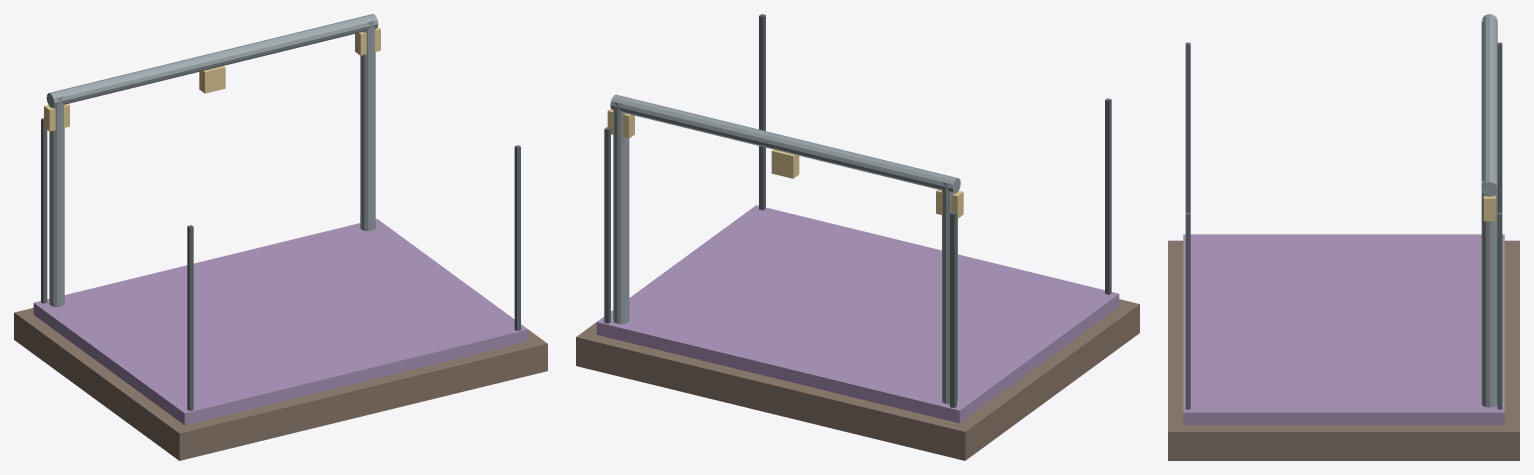
Rendered from performance_stage.glb.
3 renders of one model, left to right at view 1: azimuth 30°, elevation 25°; view 2: azimuth 150°, elevation 25°; view 3: azimuth 270°, elevation 25°, orthographic. The views are drawn at different scales.
Visible parts, largest first — view 1: part_01, part_00, truss, part_02, part_03, part_08, part_10, part_07, part_05; view 2: part_01, part_00, truss, part_03, part_02, part_07, part_08, part_09, part_10, part_05; view 3: part_01, part_00, part_03, truss, part_09, part_10, part_08, part_07.
Boxes of the visible parts, x1,y1,x2,y2 form: part_01: (33,219,528,425); part_00: (14,308,547,460); truss: (46,14,378,107); part_02: (49,96,64,306); part_03: (360,20,375,231); part_08: (187,225,193,410); part_10: (514,145,520,330); part_07: (41,118,47,303); part_05: (199,66,225,93); part_01: (596,205,1119,423); part_00: (576,299,1139,460); truss: (610,94,960,193); part_03: (613,101,629,324); part_02: (942,181,957,404); part_07: (950,211,956,407); part_08: (1105,98,1111,294); part_09: (604,127,610,323); part_10: (759,14,765,210); part_05: (771,149,799,178); part_01: (1183,234,1504,425); part_00: (1168,240,1519,460); part_03: (1481,180,1497,407); truss: (1481,14,1497,196); part_09: (1497,212,1502,409); part_10: (1185,212,1190,409); part_08: (1185,42,1190,212); part_07: (1497,42,1502,212).
Size of the model in its own units: 4.5 by 2.93 by 3.5.
